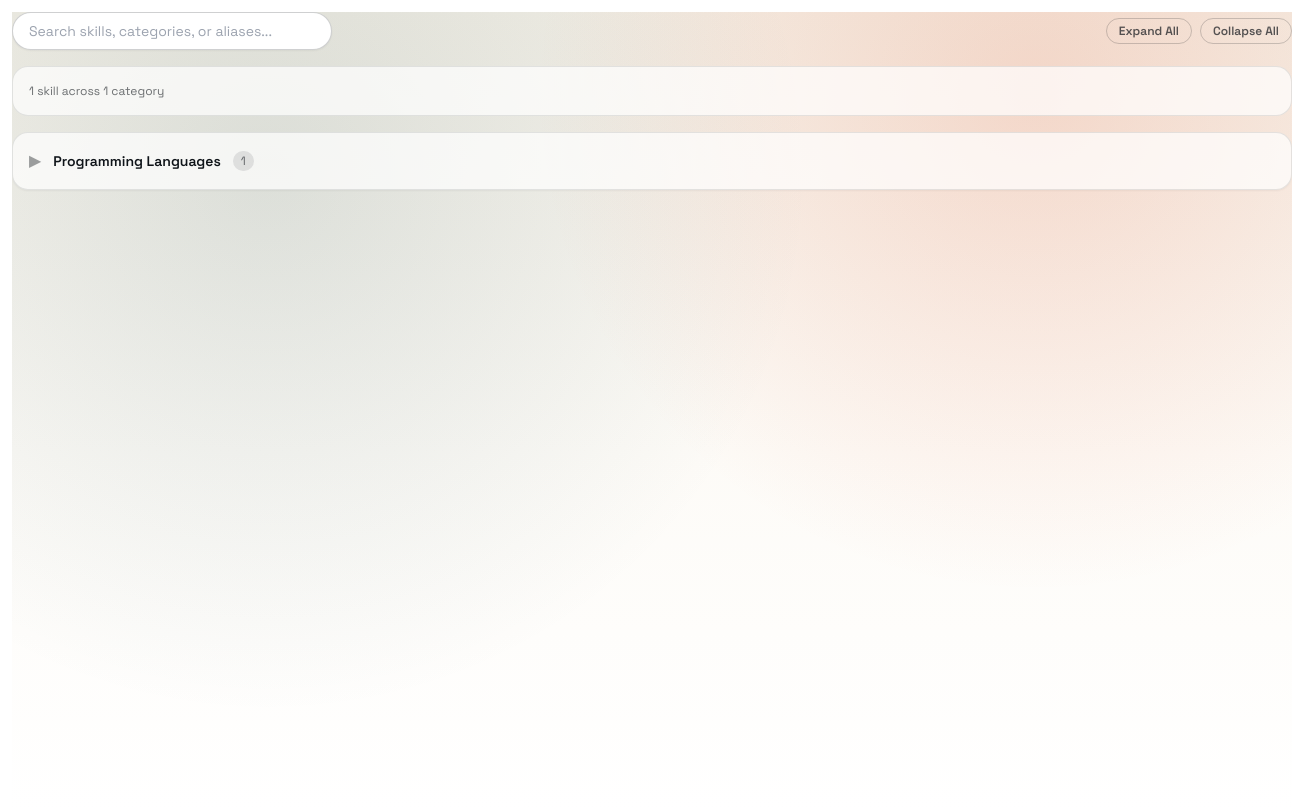
Test: TaxonomyViewer › render - skill without aliases - does not display aliases section
Click the button with aria-label "expand category programming languages".
click(137, 161)  # box [13, 133, 1291, 189]
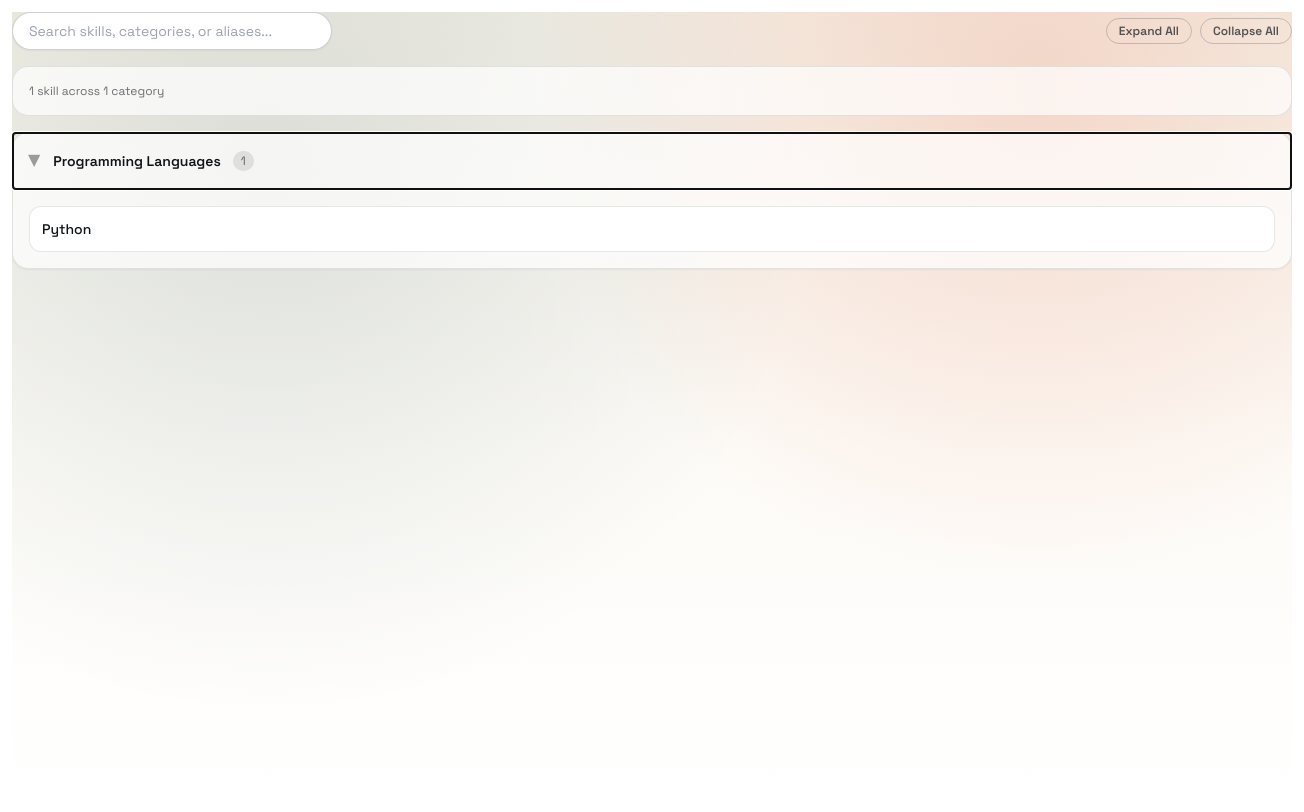
Expected: the text "Python" does not show "aliases", [29, 206, 1275, 252]
Now the text "Python" is shown, box [42, 220, 91, 238]
